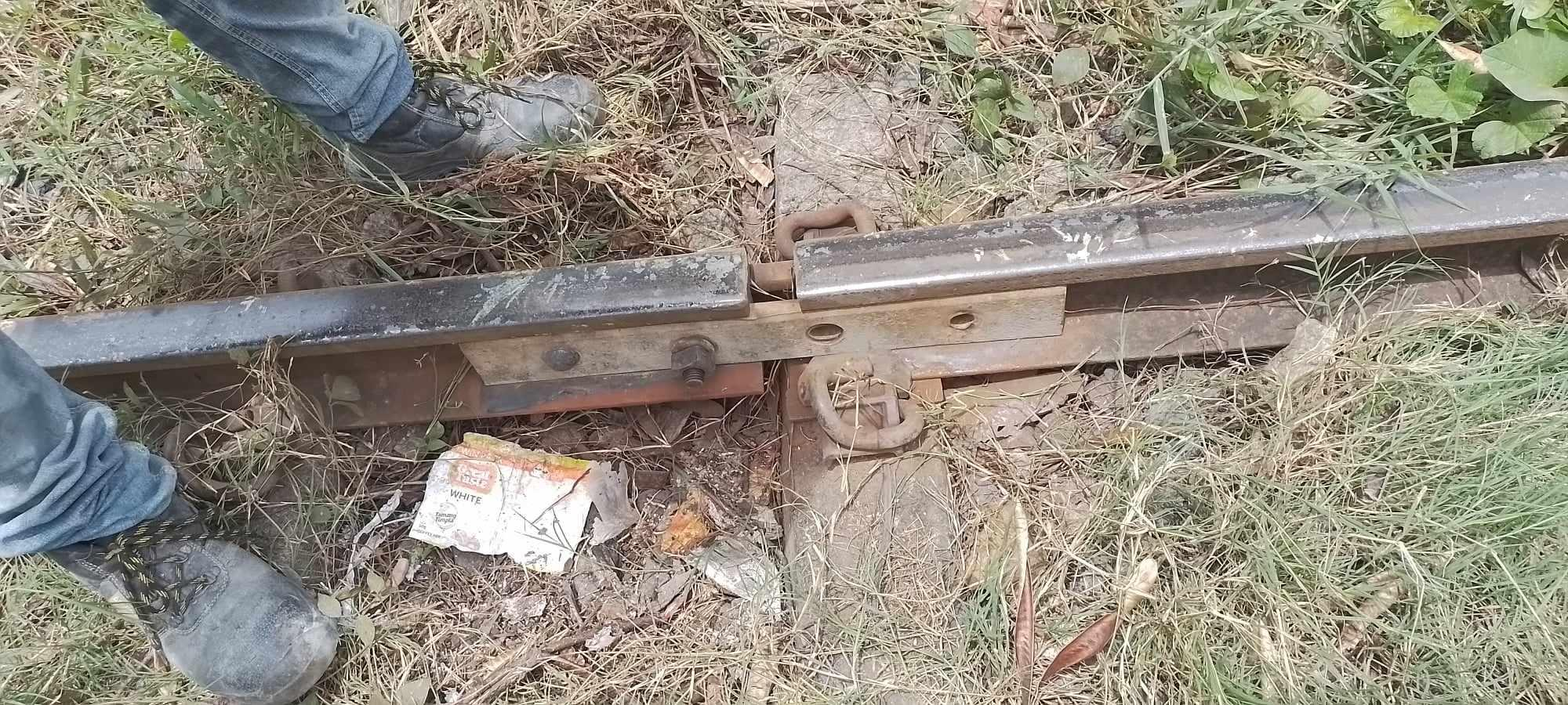railway-gap: (712, 215, 840, 343)
